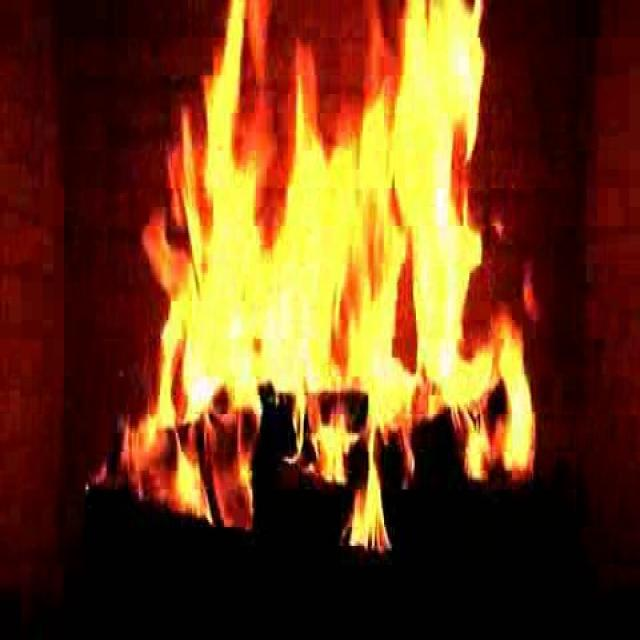fire: (153, 45, 518, 474)
